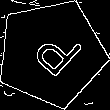P_SW: (20, 22, 82, 84)
